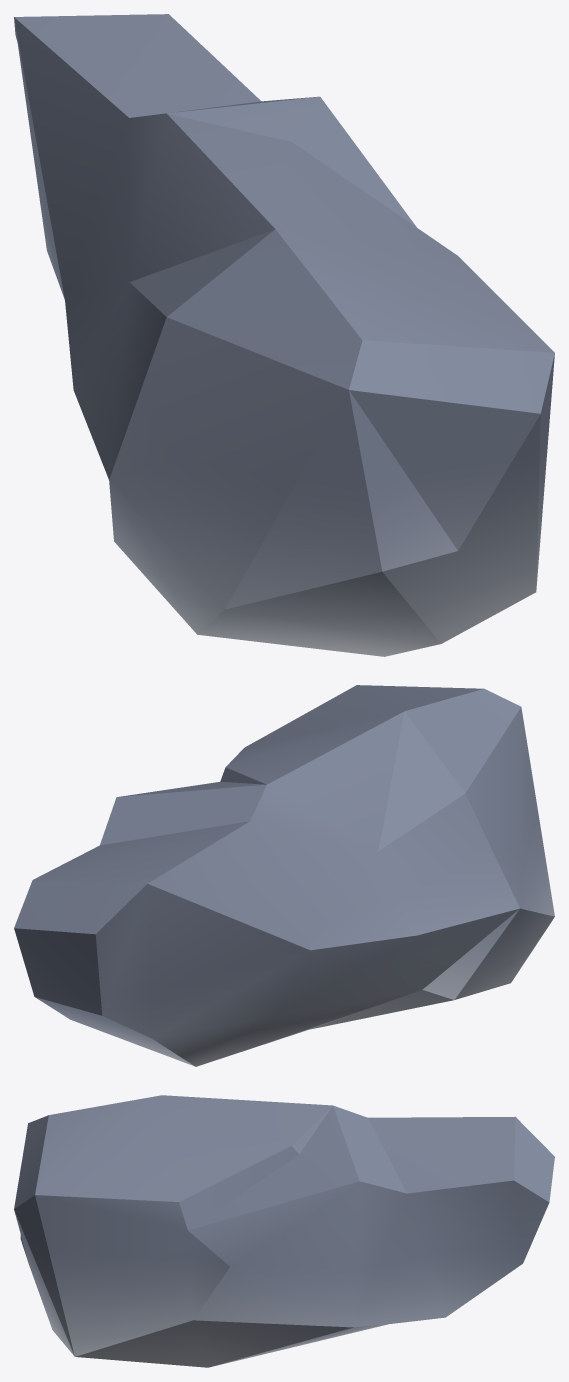
File: Terrain_Stage2_Mountain_1.fbx
The picture shows the model from 3 angles, top to bottom: view 1: azimuth 30°, elevation 25°; view 2: azimuth 150°, elevation 25°; view 3: azimuth 270°, elevation 25°; orthographic projection. The views are drawn at different scales.
Parts seen in each view (by area): view 1: terrain_mountain_411; view 2: terrain_mountain_411; view 3: terrain_mountain_411.
Part boxes in pixels (x1,y1,x2,y2): terrain_mountain_411: (14,14,554,656); terrain_mountain_411: (14,685,554,1066); terrain_mountain_411: (14,1095,554,1367).
Size of the model in its own units: 497 by 453 by 948.
Materials: 1 (1 with a texture image).
